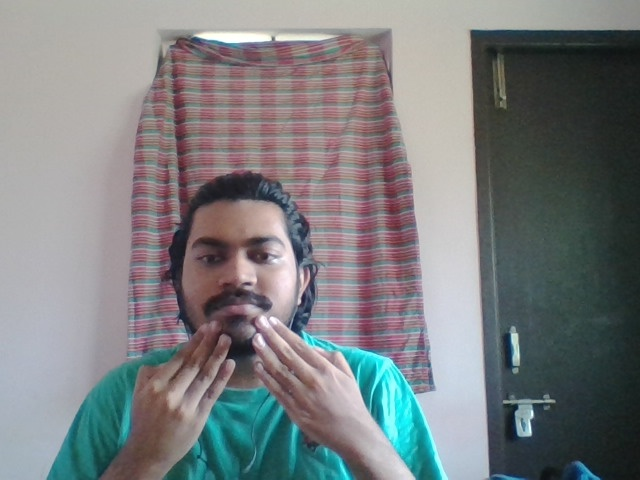ThankYou: (130, 315, 384, 459)
